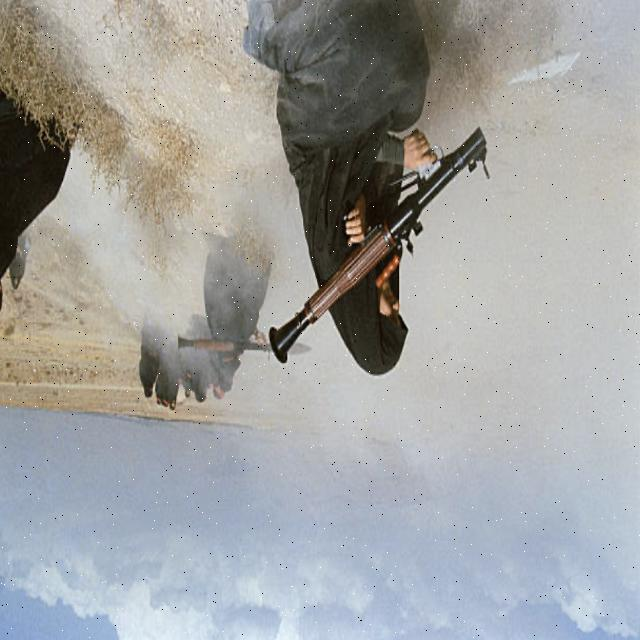bazooka: (265, 115, 495, 369)
